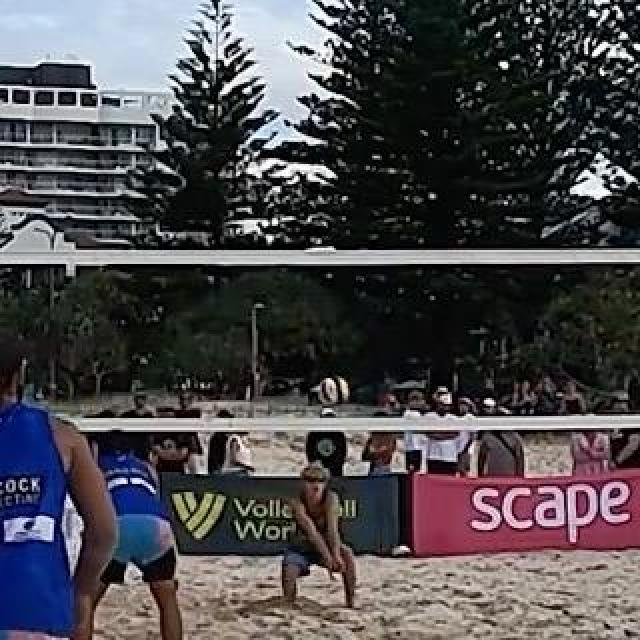volleyball: (321, 376, 349, 404)
